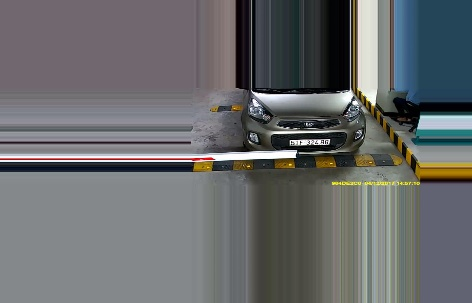plate: (291, 137, 329, 147)
